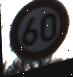Speed Limit -60-: (7, 0, 69, 67)
